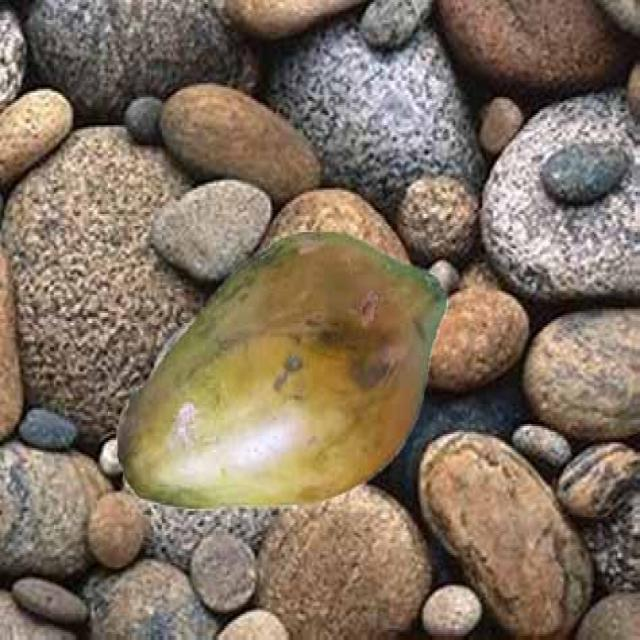Pepaya rippen: (118, 238, 448, 525)
